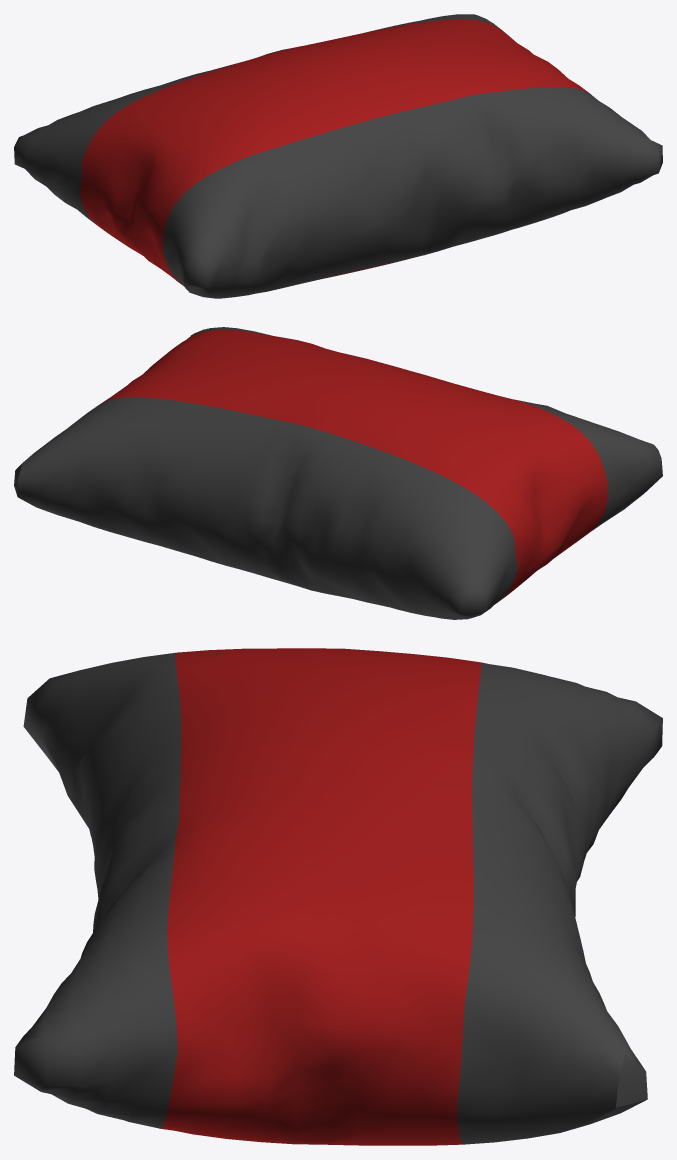
File: Pillow.FBX
The picture shows the model from 3 angles, top to bottom: view 1: azimuth 30°, elevation 25°; view 2: azimuth 150°, elevation 25°; view 3: azimuth 270°, elevation 25°; orthographic projection. The views are drawn at different scales.
Parts seen in each view (by area): view 1: Pillow01; view 2: Pillow01; view 3: Pillow01.
Boxes of the visible parts, left/top/right/bottom form: Pillow01: left=14, top=14, right=662, bottom=298; Pillow01: left=14, top=327, right=662, bottom=619; Pillow01: left=14, top=648, right=662, bottom=1145.
Size of the model in its own units: 27.21 by 10.29 by 19.24.
